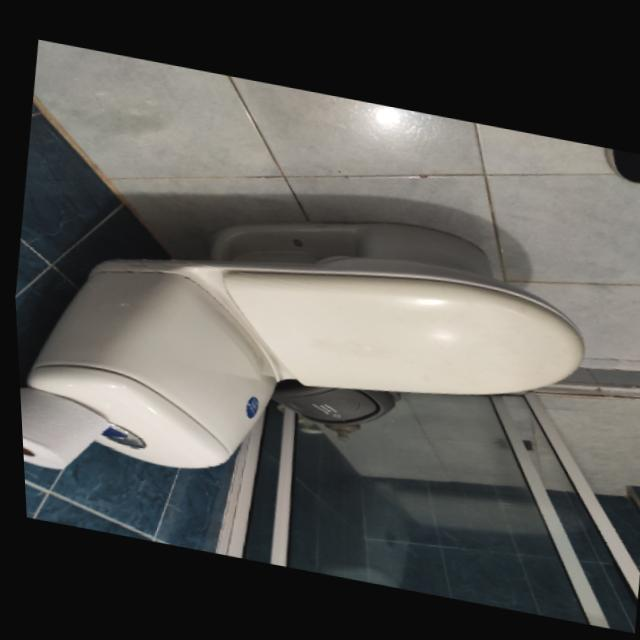toilet: (6, 153, 604, 541)
